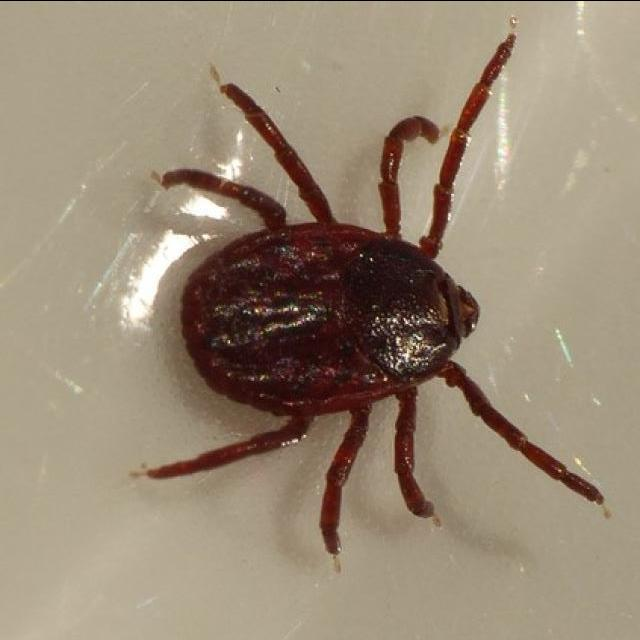Rhipicephalus Sanguineus-F: (145, 32, 602, 557)
